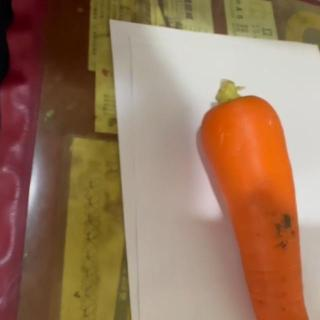carrot: (199, 77, 316, 320)
